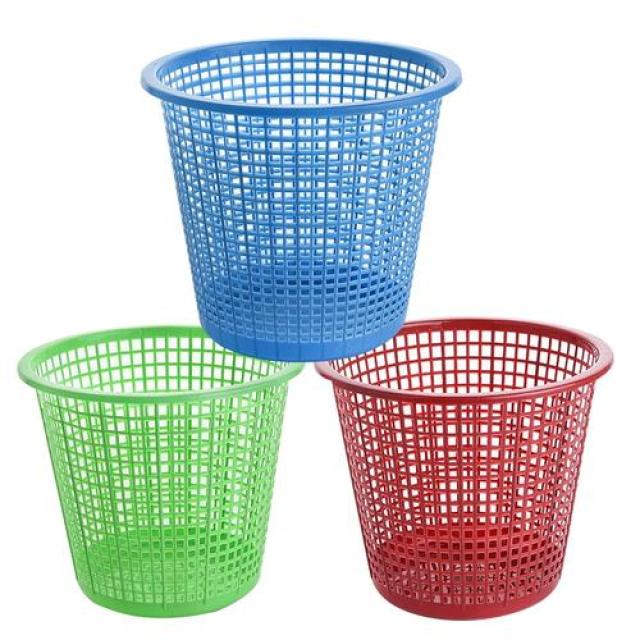dustbin: (136, 32, 466, 365), (313, 312, 618, 624), (15, 322, 308, 621)
